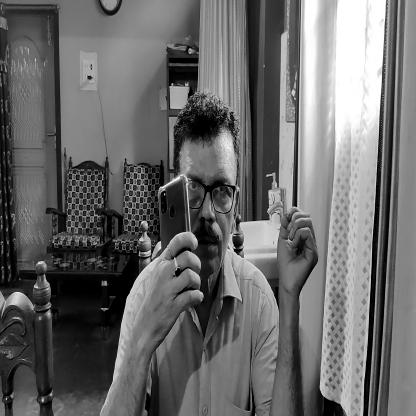Normal: (187, 106, 240, 278)
